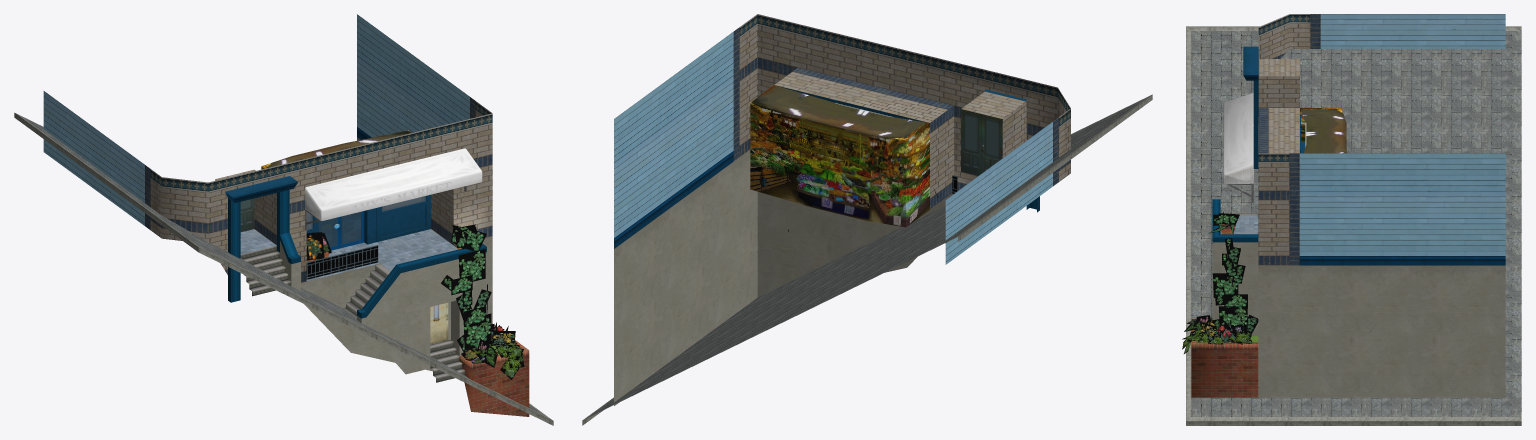
File: HouseC_Base-35.obj
The picture shows the model from 3 angles, left to right: view 1: azimuth 30°, elevation 25°; view 2: azimuth 150°, elevation 25°; view 3: azimuth 270°, elevation 25°; orthographic projection. The views are drawn at different scales.
Parts seen in each view (by area): view 1: HouseC_Base-35; view 2: HouseC_Base-35; view 3: HouseC_Base-35.
Boxes of the visible parts, box(x1,y1,x2,y2) form: HouseC_Base-35: box(14, 14, 553, 425); HouseC_Base-35: box(582, 14, 1152, 425); HouseC_Base-35: box(1182, 14, 1521, 425).
Bounding box in the file's own units: 19.93 × 15.49 × 18.16.
